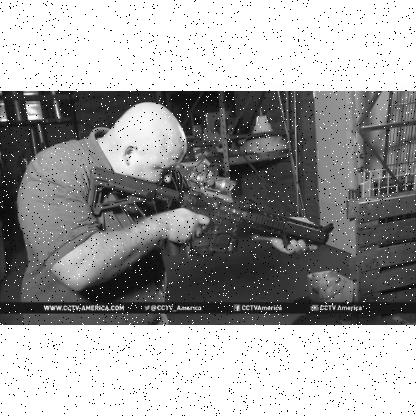gun: (79, 162, 333, 258)
